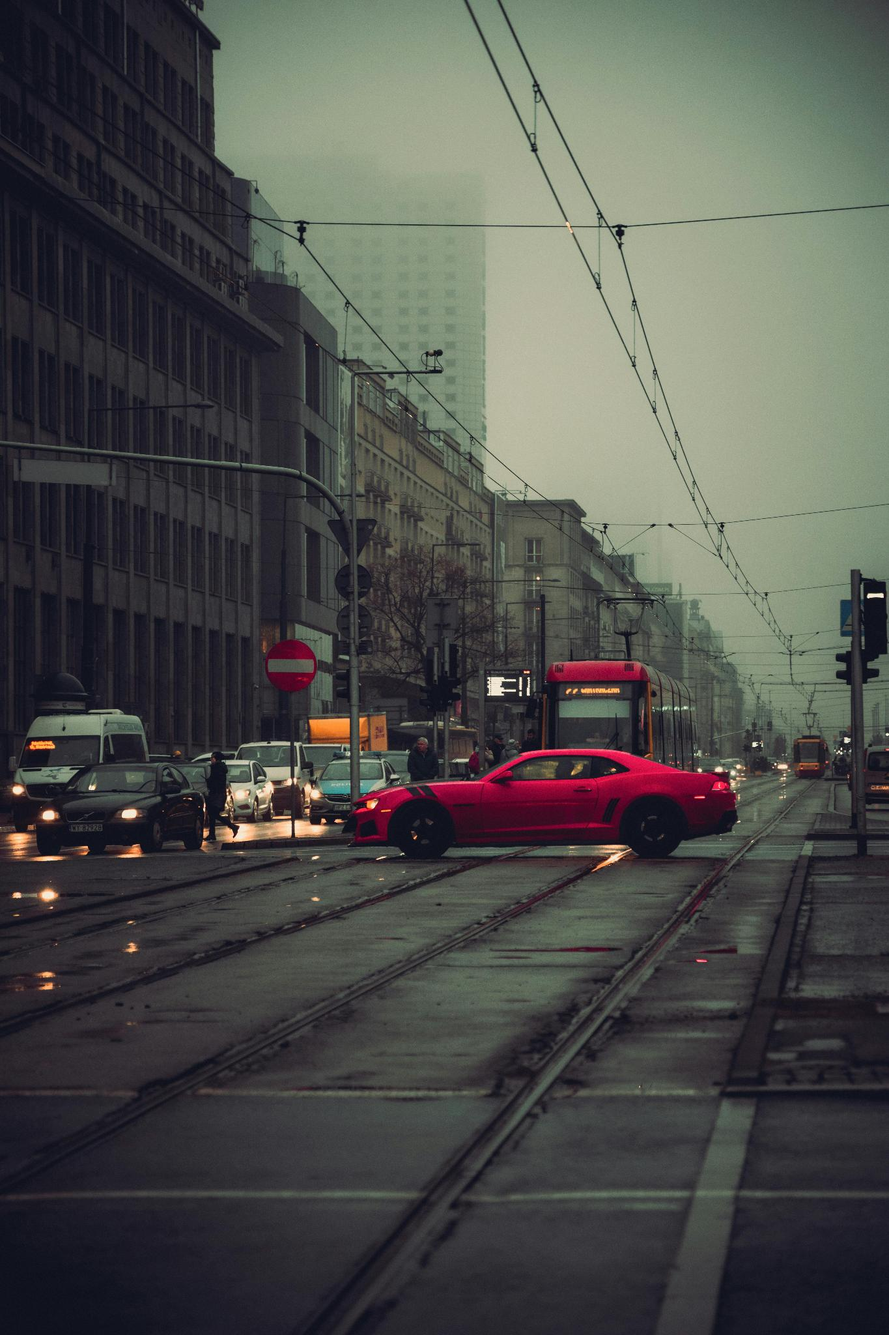car: (357, 733, 753, 857), (35, 765, 195, 857), (310, 757, 352, 823), (360, 759, 395, 796)
